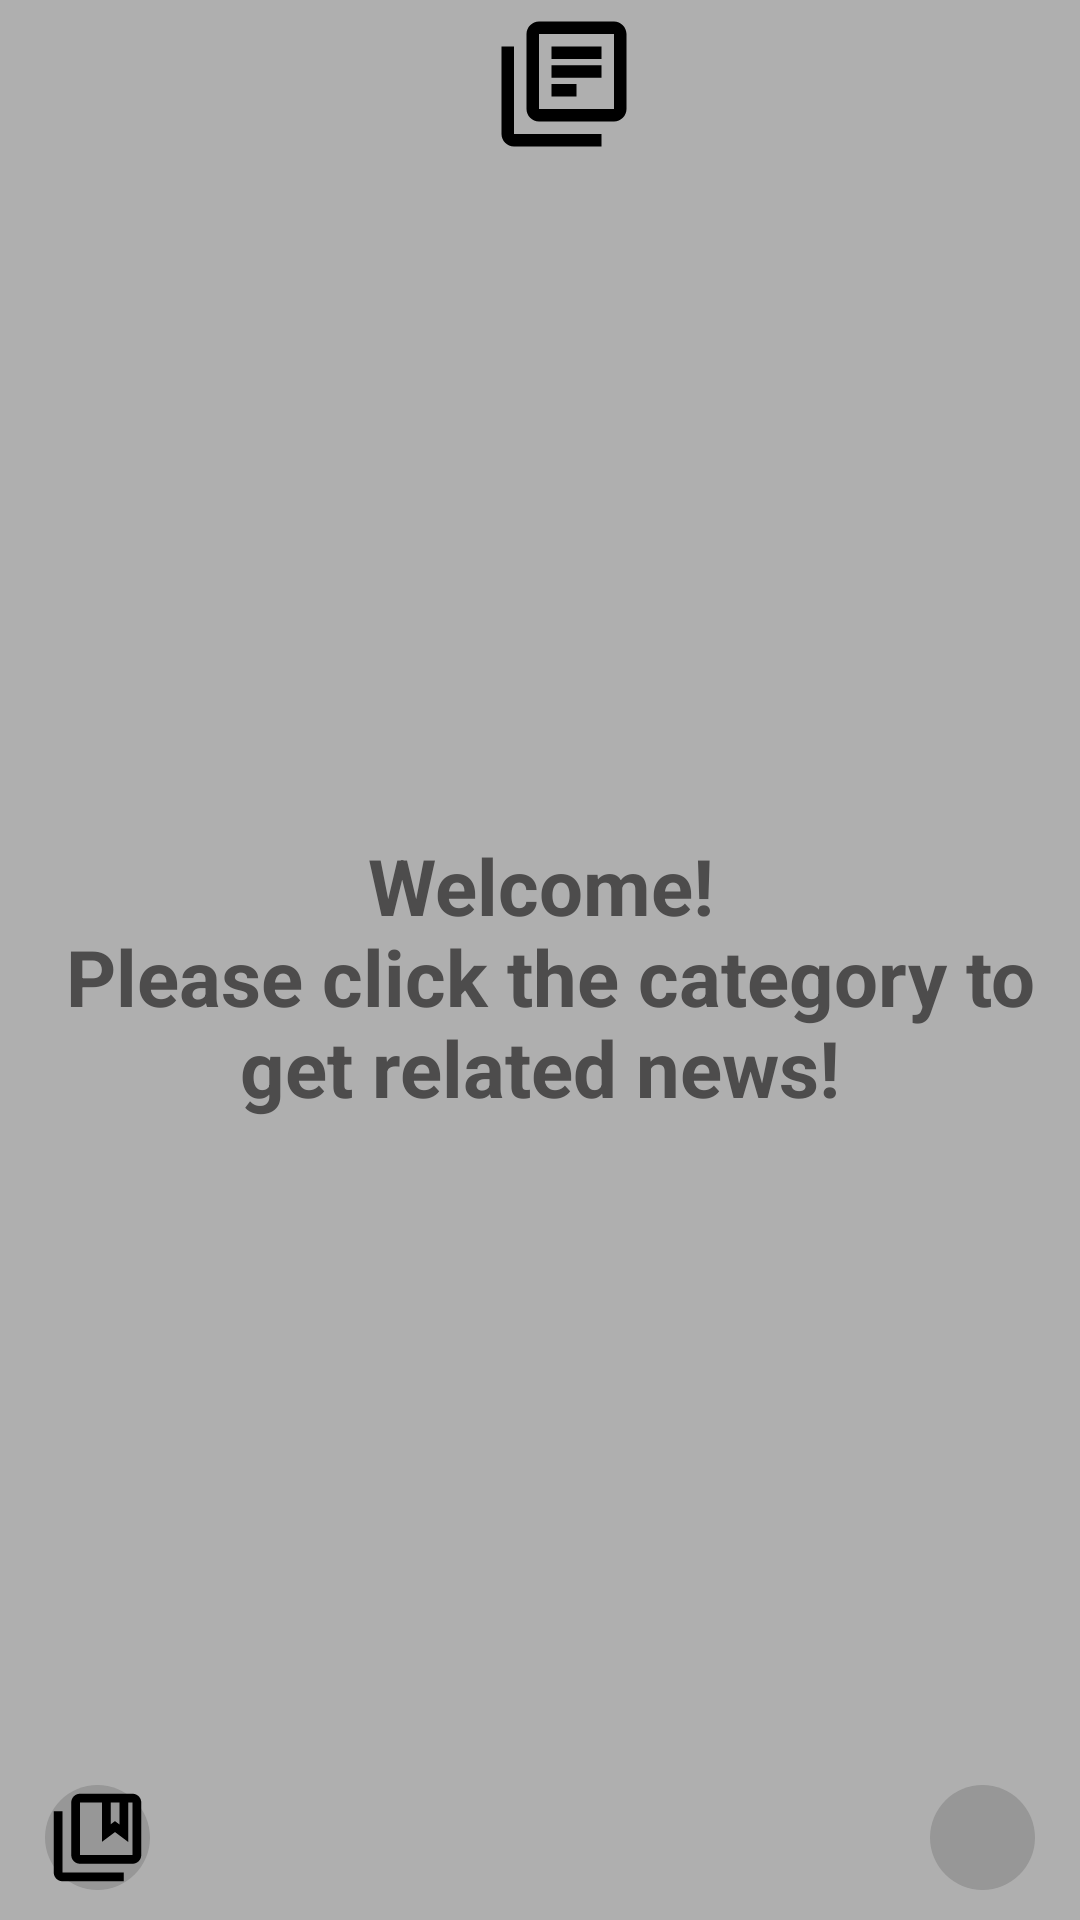

Icon bounding boxes for this 1080*1920 phone screenshot, format bbox=[x1, y1, x2, y2]:
collections bookmark: bbox=[45, 1785, 150, 1890]
library books: bbox=[501, 21, 627, 147]
